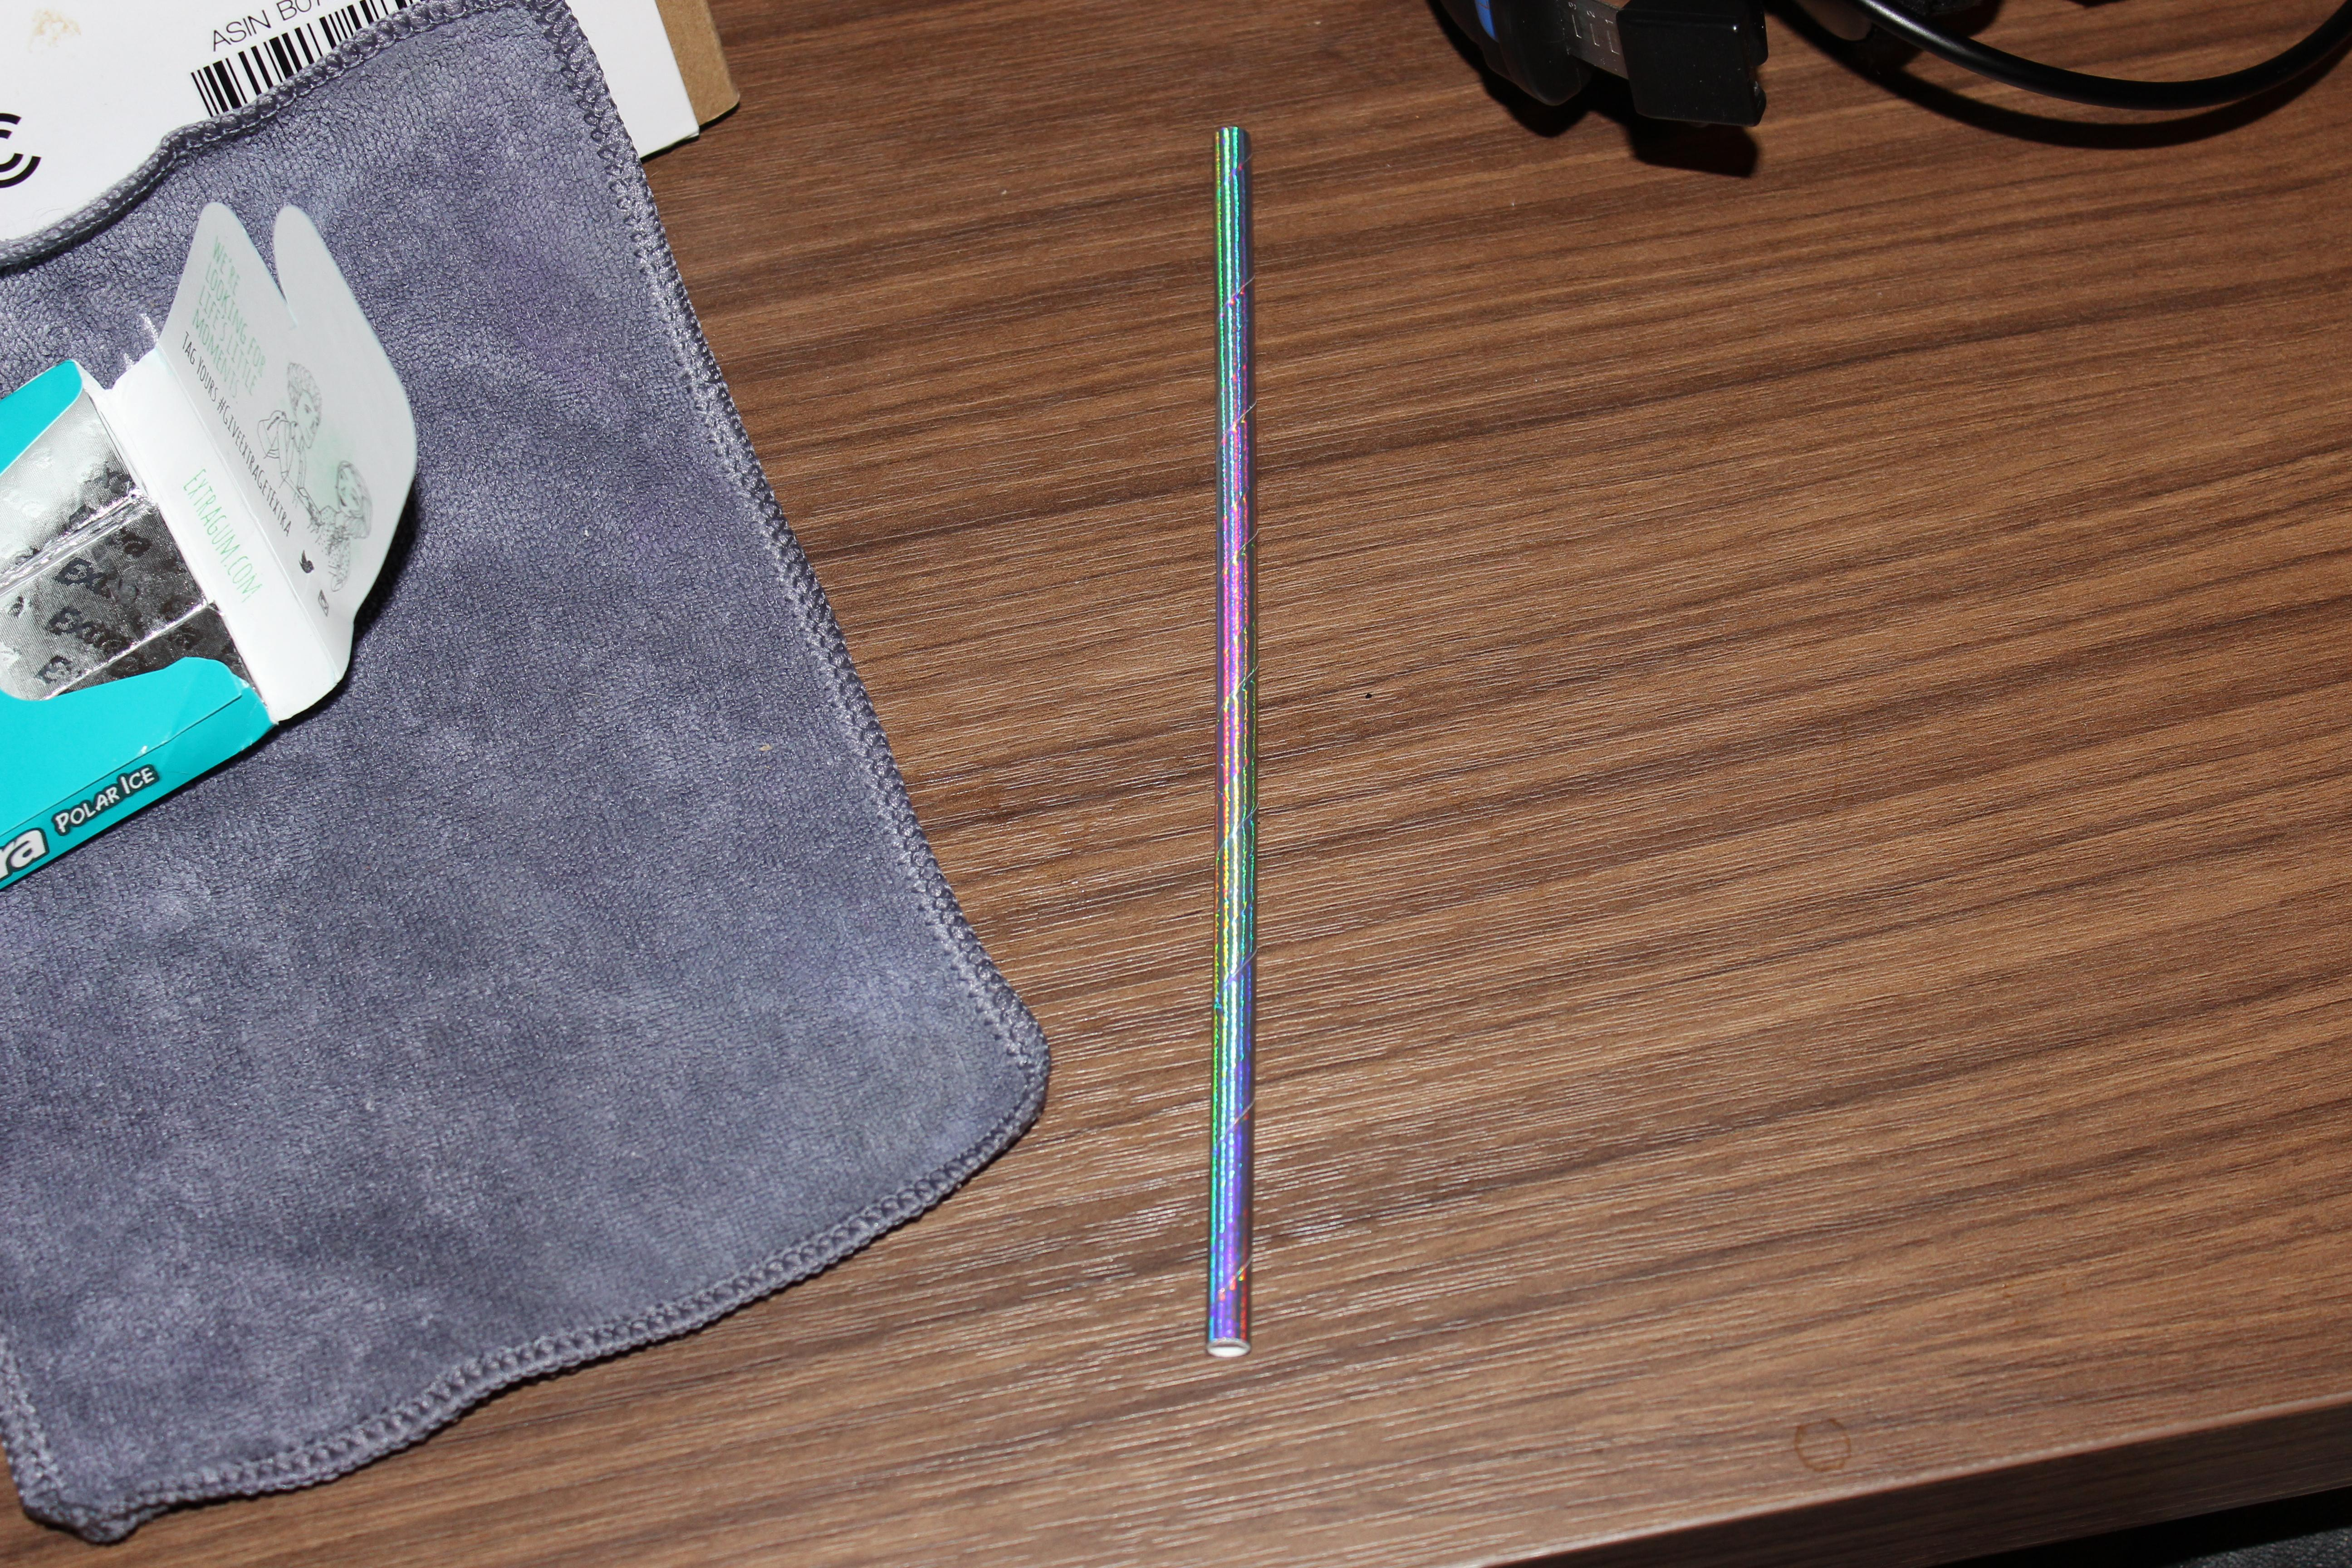silverStraw: (1148, 112, 1340, 1395)
